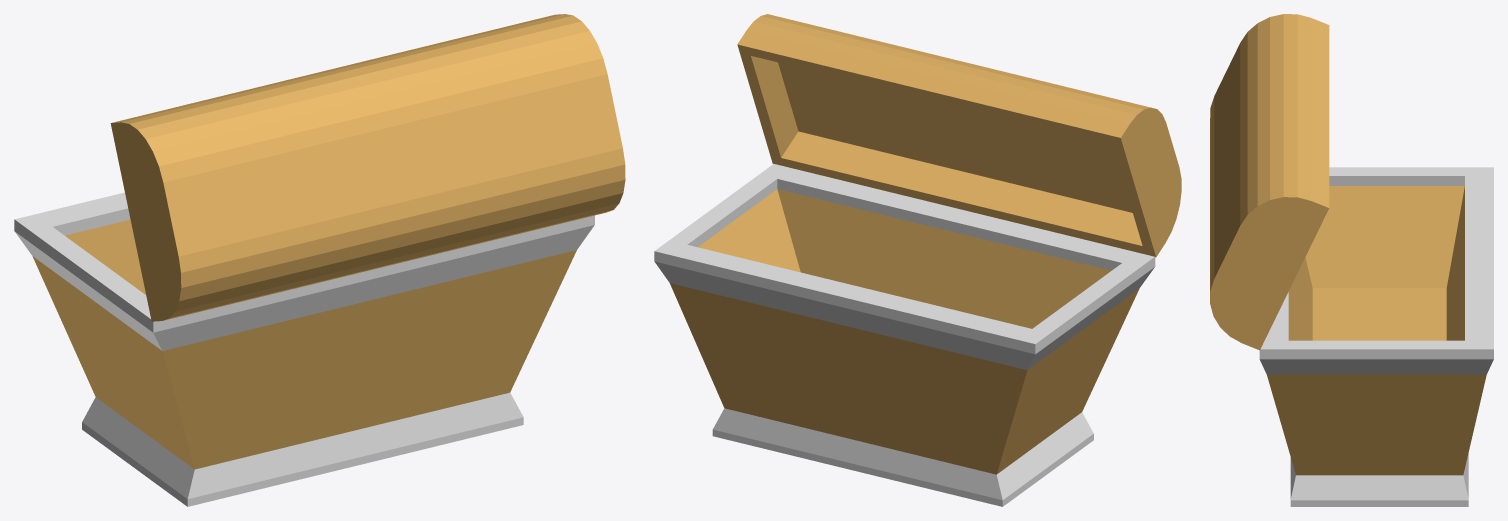
The model's file is Chest.fbx.
The picture shows the model from 3 angles, left to right: view 1: azimuth 30°, elevation 25°; view 2: azimuth 150°, elevation 25°; view 3: azimuth 270°, elevation 25°; orthographic projection. The views are drawn at different scales.
Visible parts, largest first — view 1: Cube.001; view 2: Cube.001; view 3: Cube.001.
Part boxes in pixels (x1,y1,x2,y2): Cube.001: [14, 14, 625, 506]; Cube.001: [654, 14, 1181, 506]; Cube.001: [1210, 14, 1493, 506].
Size of the model in its own units: 72.76 by 61.57 by 47.67.
